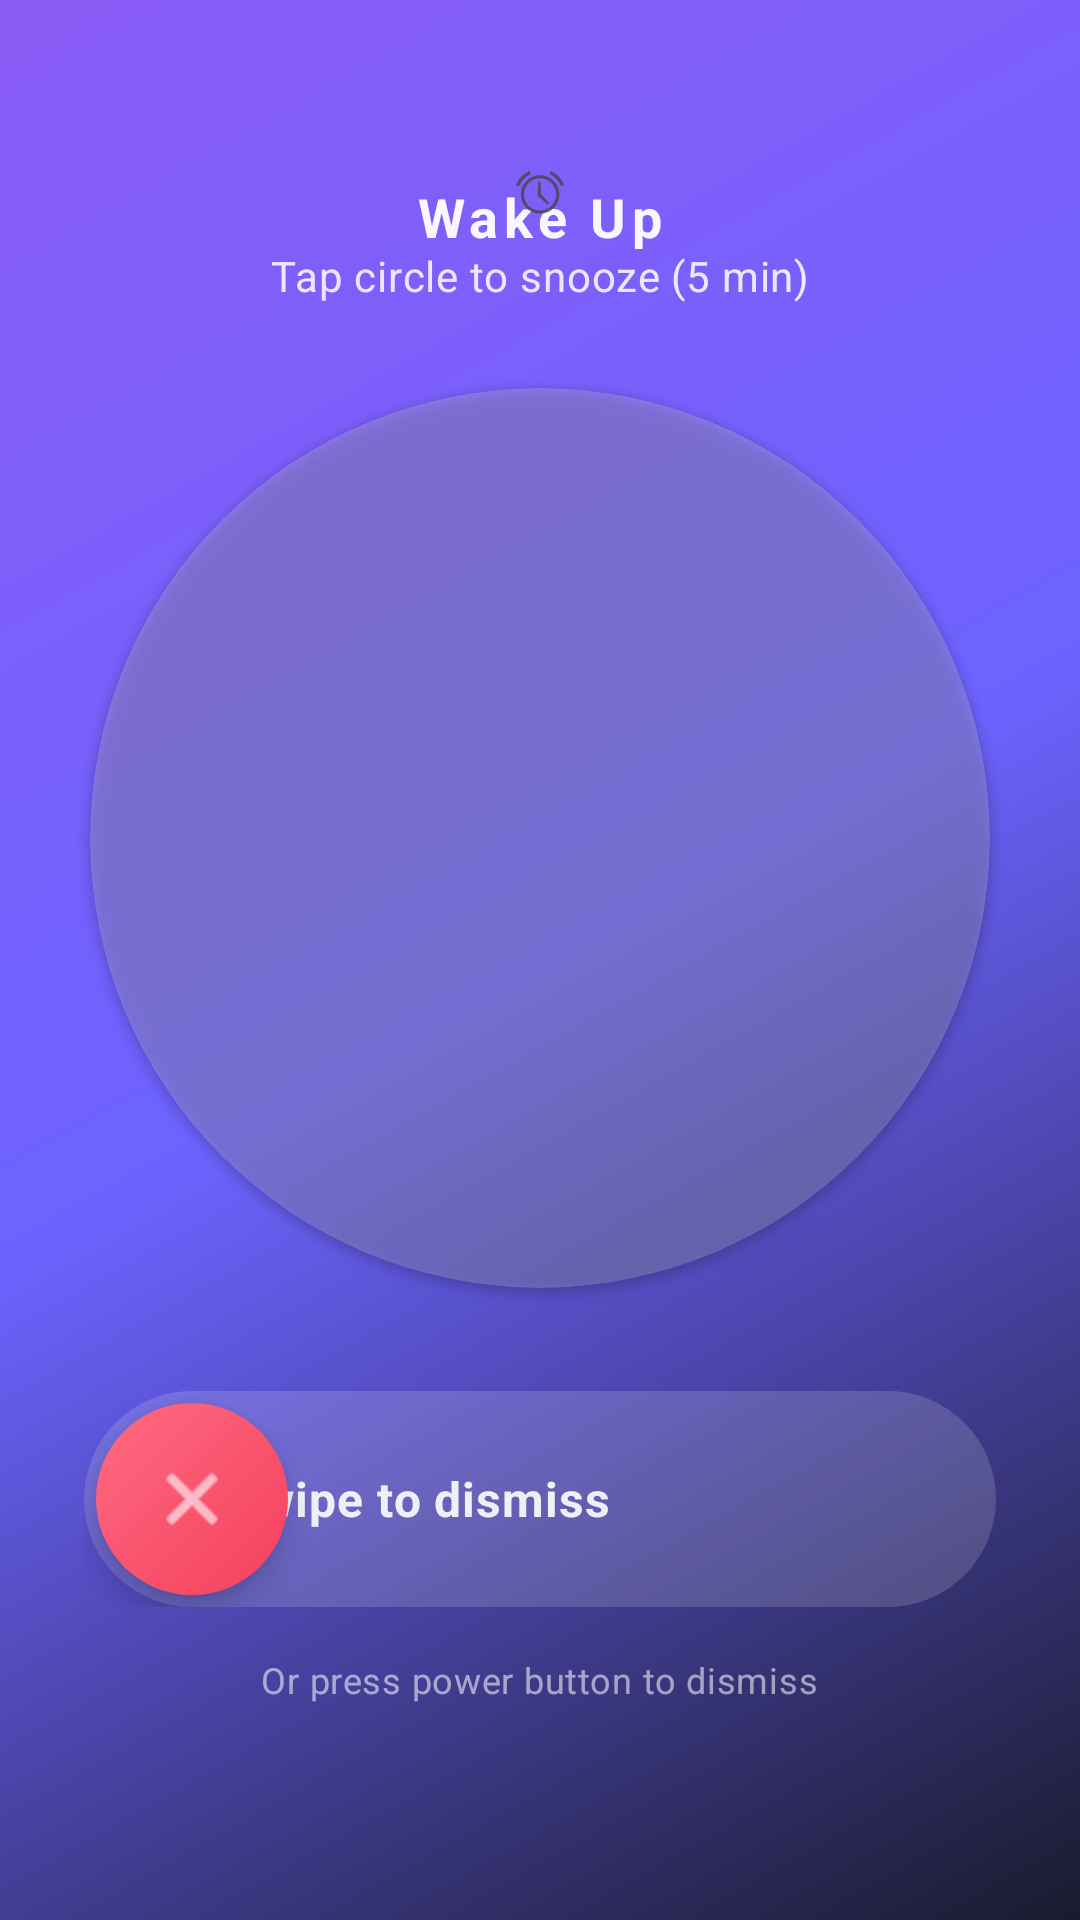

Icons on this 1080×1920 Android screen, each with its box as [left=x1, top=y1, right=x2, bottom=y2]:
close clear cancel: [left=164, top=1471, right=234, bottom=1541]
